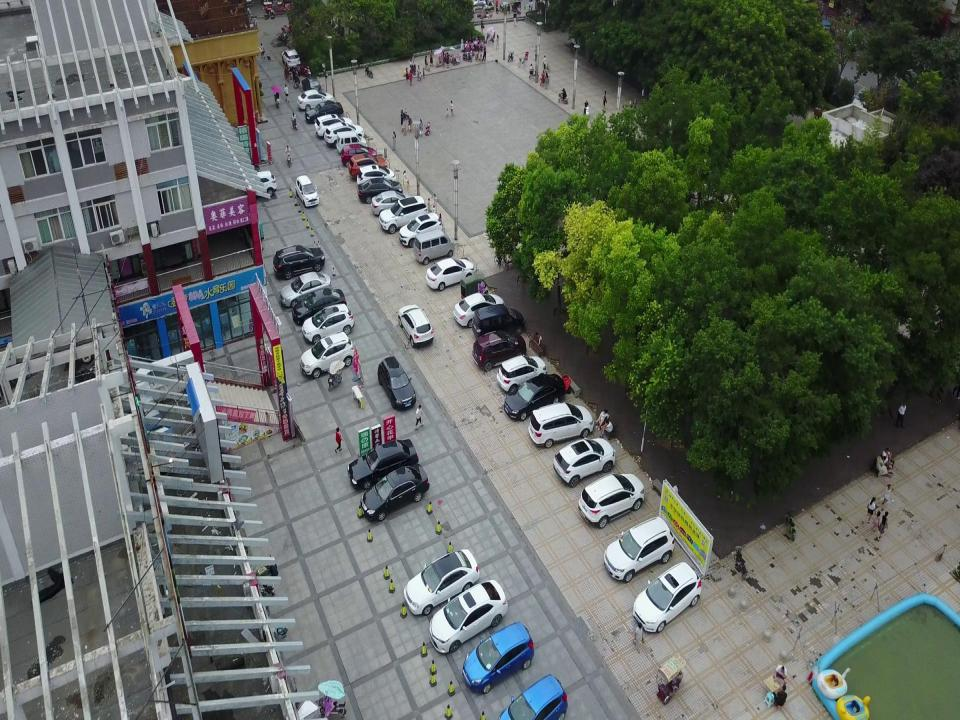car: (429, 580, 507, 653), (633, 556, 701, 634), (404, 549, 480, 615), (604, 516, 674, 582), (360, 464, 430, 521), (578, 472, 644, 528), (347, 438, 419, 489), (528, 401, 592, 449), (553, 438, 615, 487), (504, 373, 564, 420), (299, 331, 354, 378), (472, 331, 526, 372), (302, 304, 354, 344), (377, 356, 415, 410), (496, 354, 546, 394), (292, 288, 346, 325), (378, 195, 428, 234), (472, 304, 524, 341), (279, 272, 331, 308), (272, 245, 326, 279), (452, 293, 504, 327), (398, 213, 444, 248), (426, 258, 474, 291), (398, 304, 434, 347), (357, 177, 403, 204), (324, 122, 364, 150), (371, 191, 414, 217), (357, 164, 396, 192), (314, 113, 354, 140), (349, 153, 387, 181), (304, 100, 344, 126), (238, 171, 276, 197), (340, 143, 376, 168), (295, 175, 319, 208), (297, 89, 334, 110), (281, 49, 301, 69), (301, 77, 322, 96)
van: (414, 229, 454, 265), (336, 130, 368, 154)
